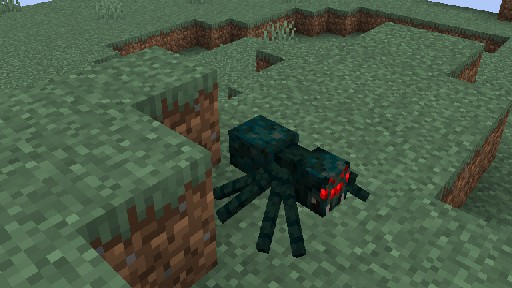cave_spider: (212, 114, 370, 258)
